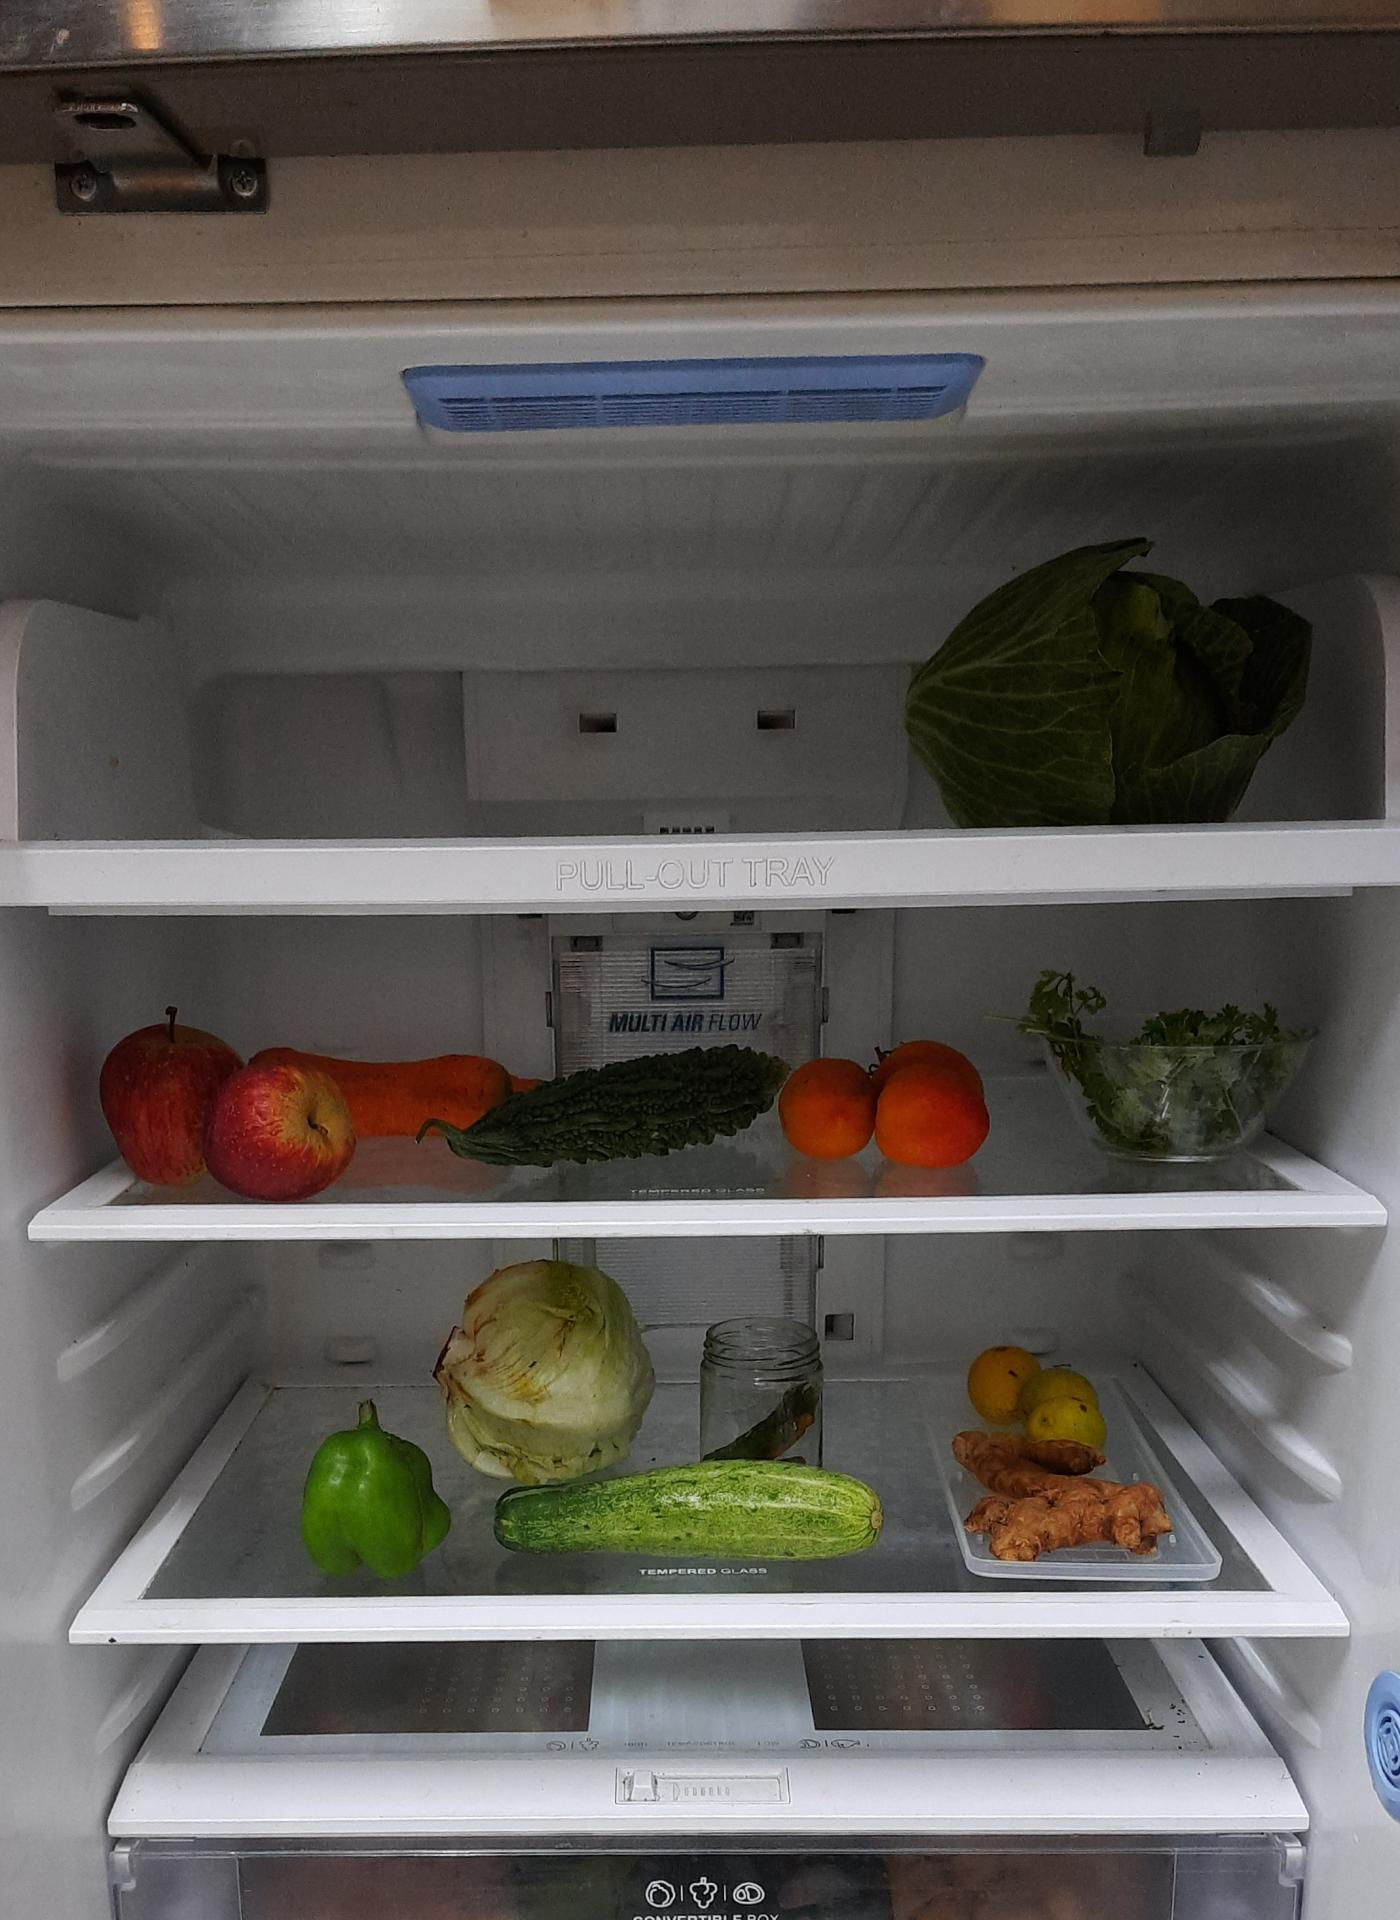apple: (98, 996, 359, 1199)
bitter gourd: (443, 1045, 795, 1160)
cabbage: (899, 532, 1322, 820)
capsicum: (298, 1421, 449, 1574)
carrots: (297, 1035, 556, 1136)
chillies: (701, 1379, 814, 1473)
coriander: (1032, 976, 1296, 1158)
cucumber: (485, 1447, 898, 1567)
ginger: (960, 1431, 1181, 1562)
lemon: (956, 1336, 1120, 1455)
lettuce: (423, 1246, 671, 1485)
tomato: (777, 1038, 987, 1160)
